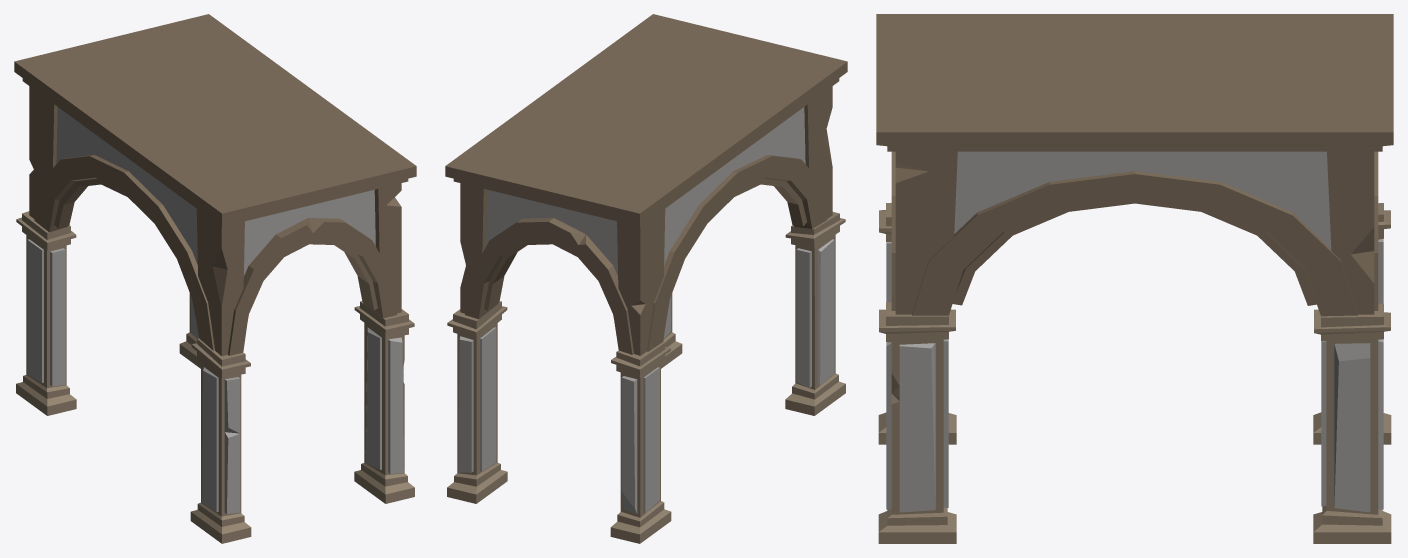
File: SM_Bld_Cuba_Arch_02.glb
3 renders of one model, left to right at view 1: azimuth 30°, elevation 25°; view 2: azimuth 150°, elevation 25°; view 3: azimuth 270°, elevation 25°, orthographic. The views are drawn at different scales.
Parts seen in each view (by area): view 1: SM_Bld_Cuba_Arch_02; view 2: SM_Bld_Cuba_Arch_02; view 3: SM_Bld_Cuba_Arch_02.
Boxes of the visible parts, <box> form: SM_Bld_Cuba_Arch_02: <box>14,14,416,543</box>; SM_Bld_Cuba_Arch_02: <box>445,14,847,543</box>; SM_Bld_Cuba_Arch_02: <box>876,14,1393,543</box>.
Bounding box in the file's own units: 0.0205 × 0.0333 × 0.0379.
